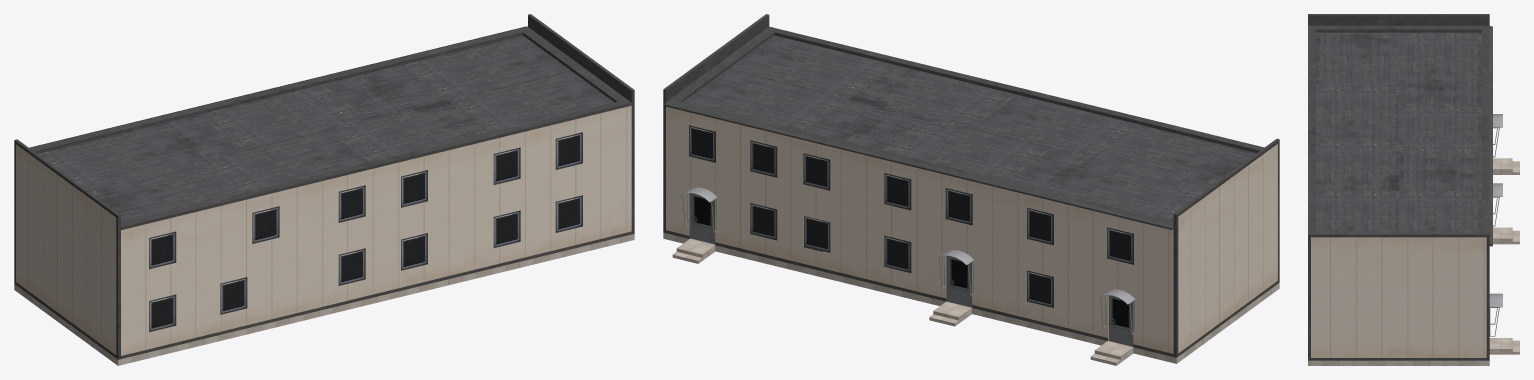
File: plant-building37.glb
The picture shows the model from 3 angles, left to right: view 1: azimuth 30°, elevation 25°; view 2: azimuth 150°, elevation 25°; view 3: azimuth 270°, elevation 25°; orthographic projection. The views are drawn at different scales.
Visible parts, largest first — view 1: Object8935725; view 2: Object8935725; view 3: Object8935725.
Boxes of the visible parts, bbox=[...] form: Object8935725: bbox=[14, 14, 634, 365]; Object8935725: bbox=[663, 14, 1279, 365]; Object8935725: bbox=[1308, 14, 1519, 365].
Size of the model in its own units: 24.49 by 6.8 by 9.93.
Materials: 1 (1 with a texture image).
